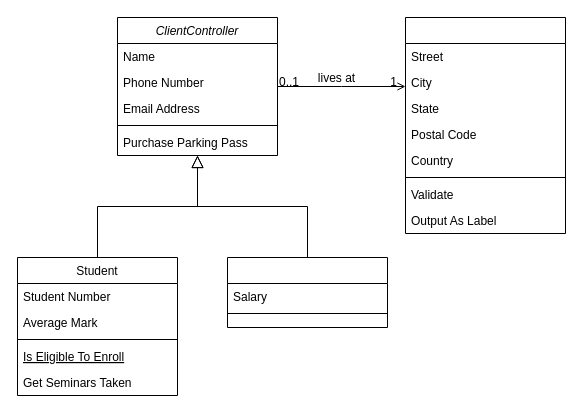
The diagram is 583 pixels wide and 416 high, and some of its shapes have lost their labels. The box of each missing label's shape, as (x1, y1, x2, y2) in pixels:
Address: (404, 16, 566, 234)
Professor: (226, 256, 388, 328)
